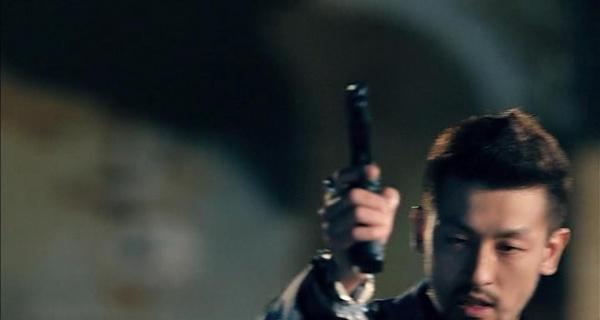Gun: (345, 81, 387, 275)
